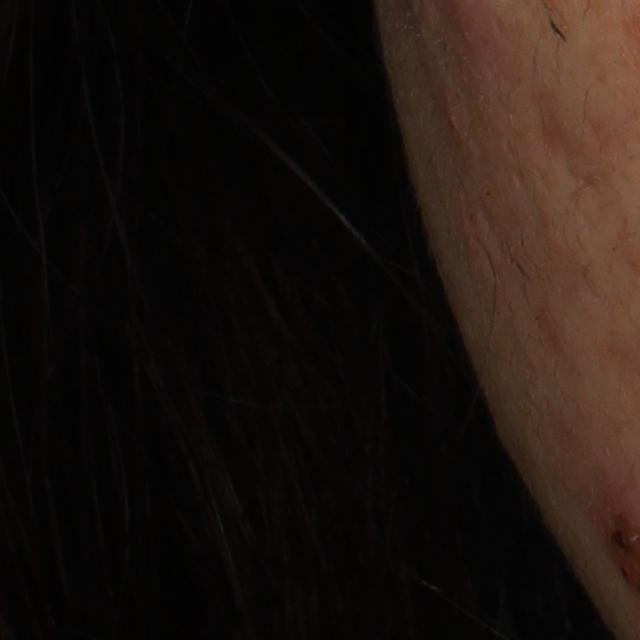atrophic_scar: (527, 91, 618, 198)
